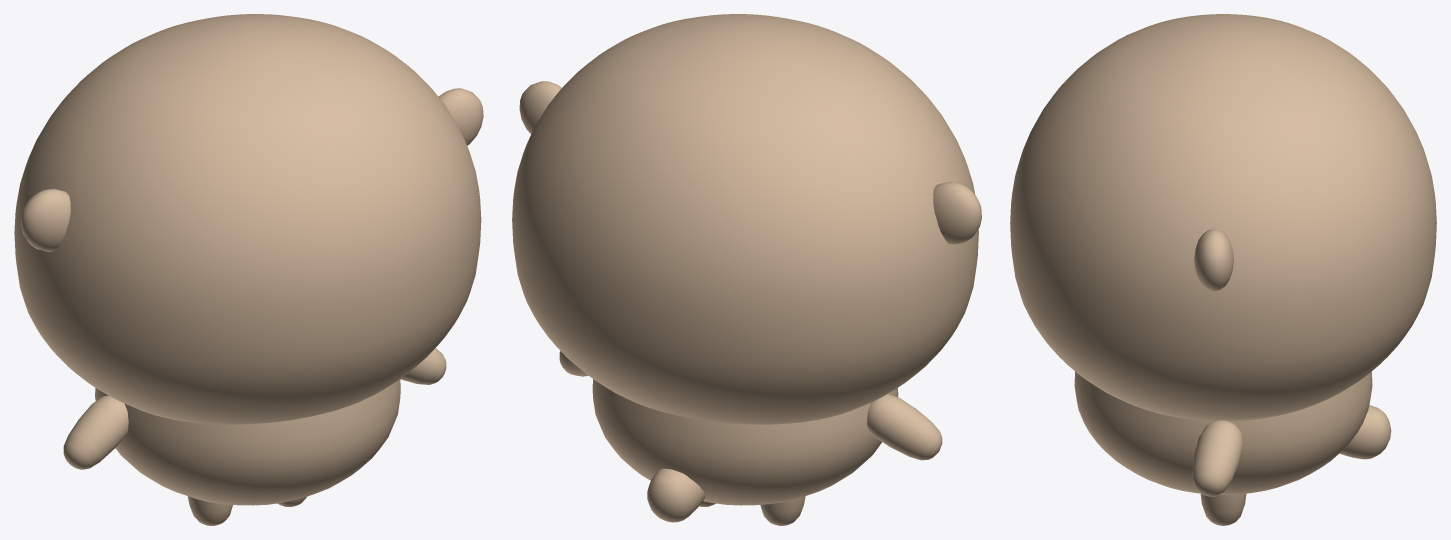
Rendered from kurimanju.glb.
3 renders of one model, left to right at view 1: azimuth 30°, elevation 25°; view 2: azimuth 150°, elevation 25°; view 3: azimuth 270°, elevation 25°, orthographic. The views are drawn at different scales.
Visible parts, largest first — view 1: kurimanju; view 2: kurimanju; view 3: kurimanju.
Boxes of the visible parts, box(x1,y1,x2,y2) form: kurimanju: box(14, 14, 483, 525); kurimanju: box(512, 14, 981, 525); kurimanju: box(1010, 14, 1436, 525).
Size of the model in its own units: 0.8771 by 0.8728 by 0.7256.
